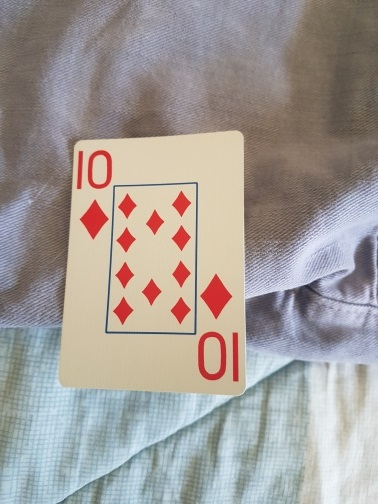ten: (58, 129, 248, 396)
